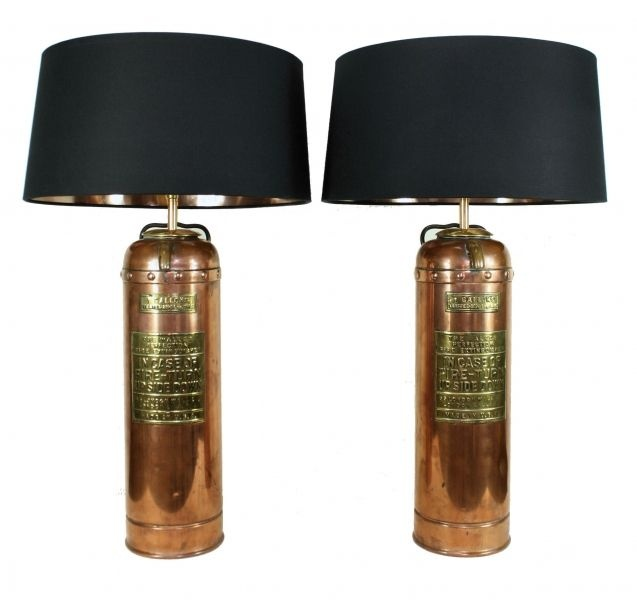fire_extinguisher: (22, 31, 312, 560), (321, 34, 608, 558)
